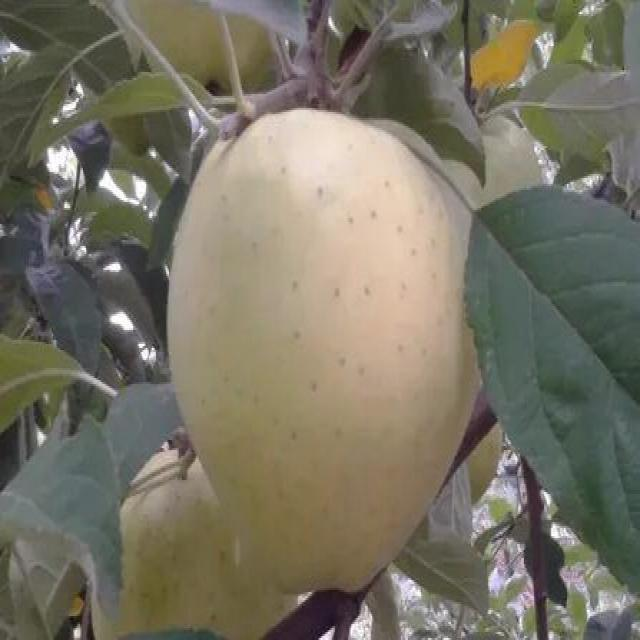Fresh Apple: (158, 100, 502, 618)
